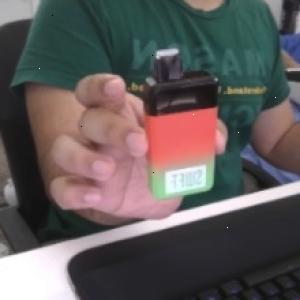Swift-E-Ciggirate: (136, 46, 222, 202)
